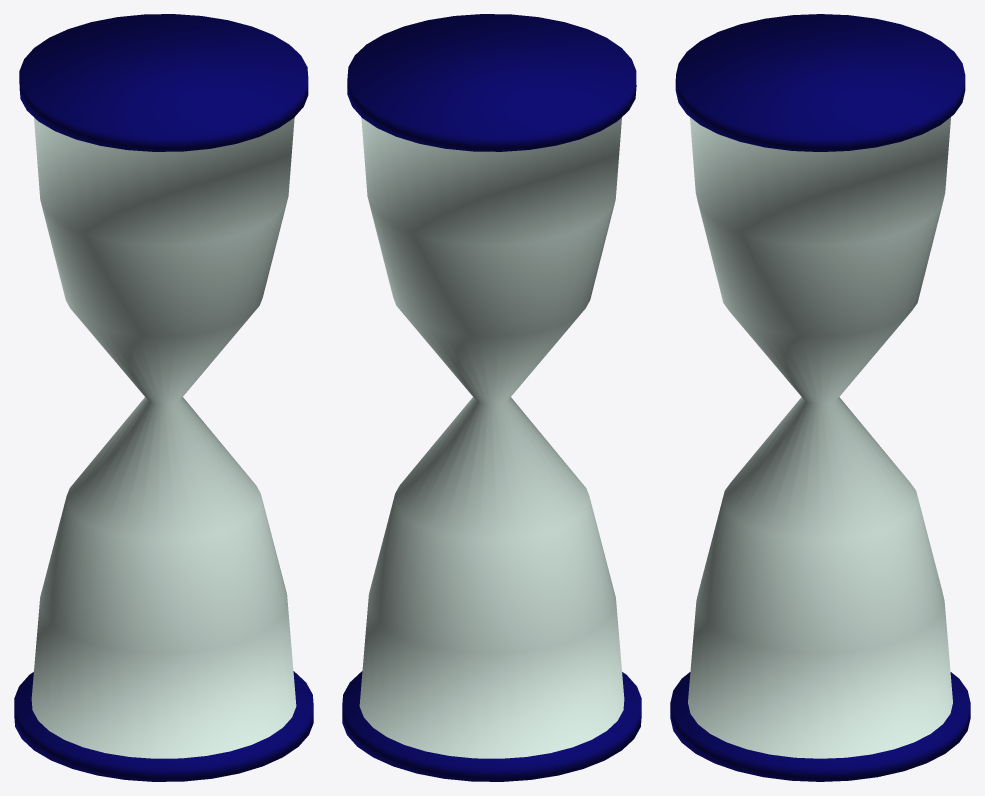
The model's file is Hourglass.fbx.
3 renders of one model, left to right at view 1: azimuth 30°, elevation 25°; view 2: azimuth 150°, elevation 25°; view 3: azimuth 270°, elevation 25°, orthographic.
Visible parts, largest first — view 1: Цилиндр.001; view 2: Цилиндр.001; view 3: Цилиндр.001.
Boxes of the visible parts, x1=… form: Цилиндр.001: x1=14, y1=14, x2=313, y2=781; Цилиндр.001: x1=342, y1=14, x2=641, y2=781; Цилиндр.001: x1=670, y1=14, x2=970, y2=781.
Size of the model in its own units: 29.13 by 68.89 by 29.13.
